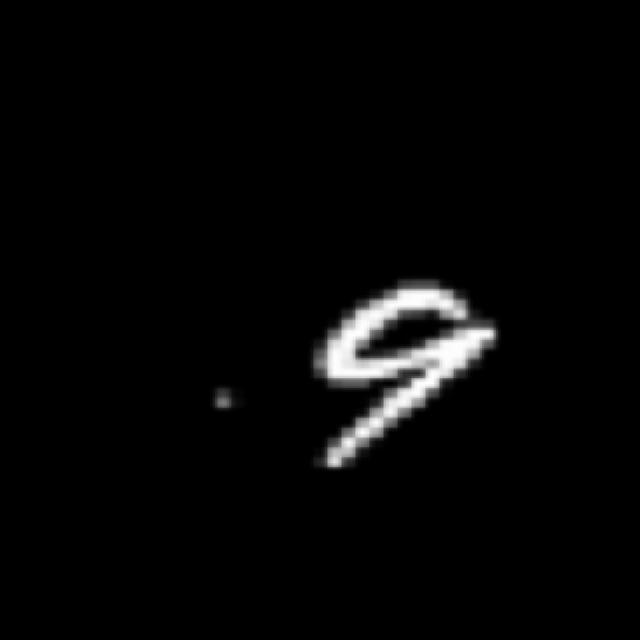nine -9-: (297, 277, 503, 469)
